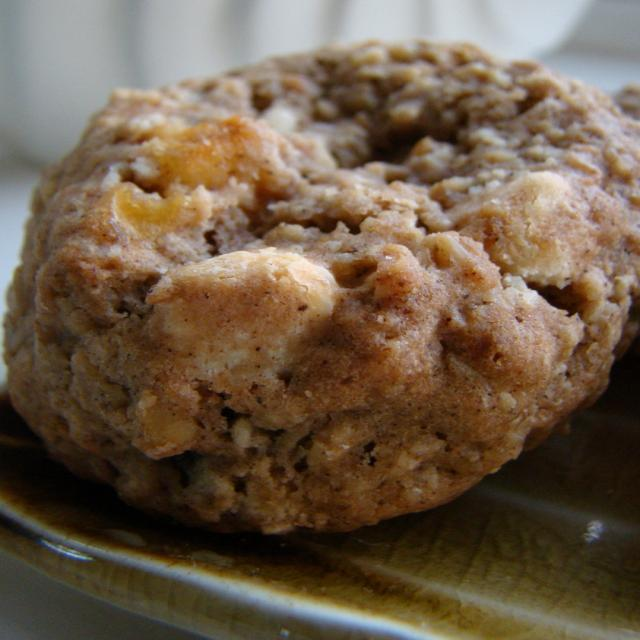Cookie: (2, 37, 640, 539)
